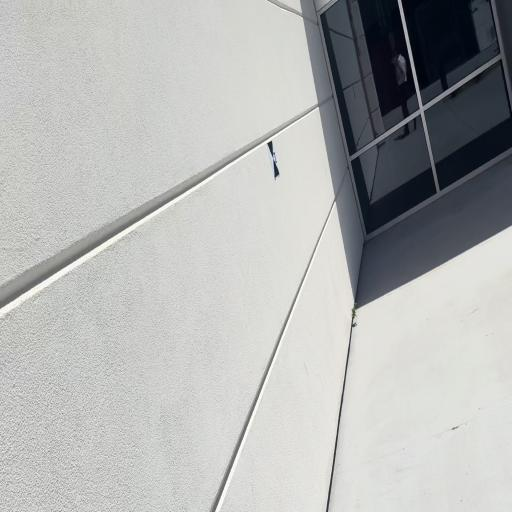target7: (267, 140, 280, 179)
